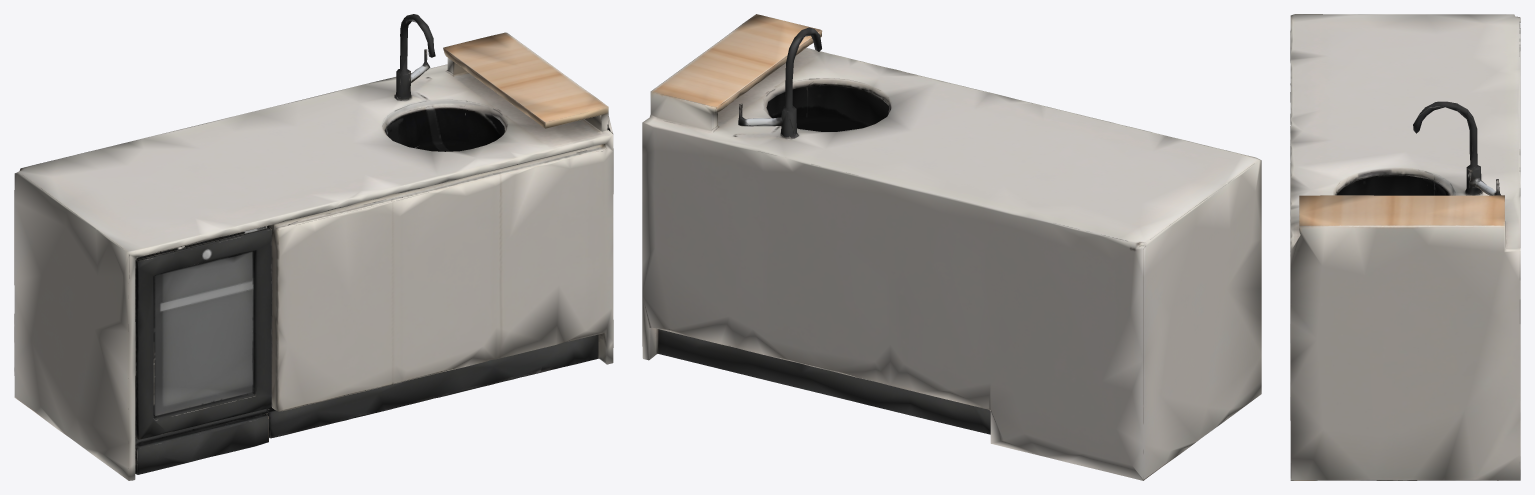
File: kahvebaribake.fbx
The picture shows the model from 3 angles, left to right: view 1: azimuth 30°, elevation 25°; view 2: azimuth 150°, elevation 25°; view 3: azimuth 270°, elevation 25°; orthographic projection. The views are drawn at different scales.
Visible parts, largest first — view 1: kahvebari_low; view 2: kahvebari_low; view 3: kahvebari_low.
Boxes of the visible parts, x1,y1,x2,y2 form: kahvebari_low: (14,14,613,480); kahvebari_low: (642,14,1261,480); kahvebari_low: (1290,14,1520,480).
Size of the model in its own units: 1.91 by 1.21 by 0.7828.
